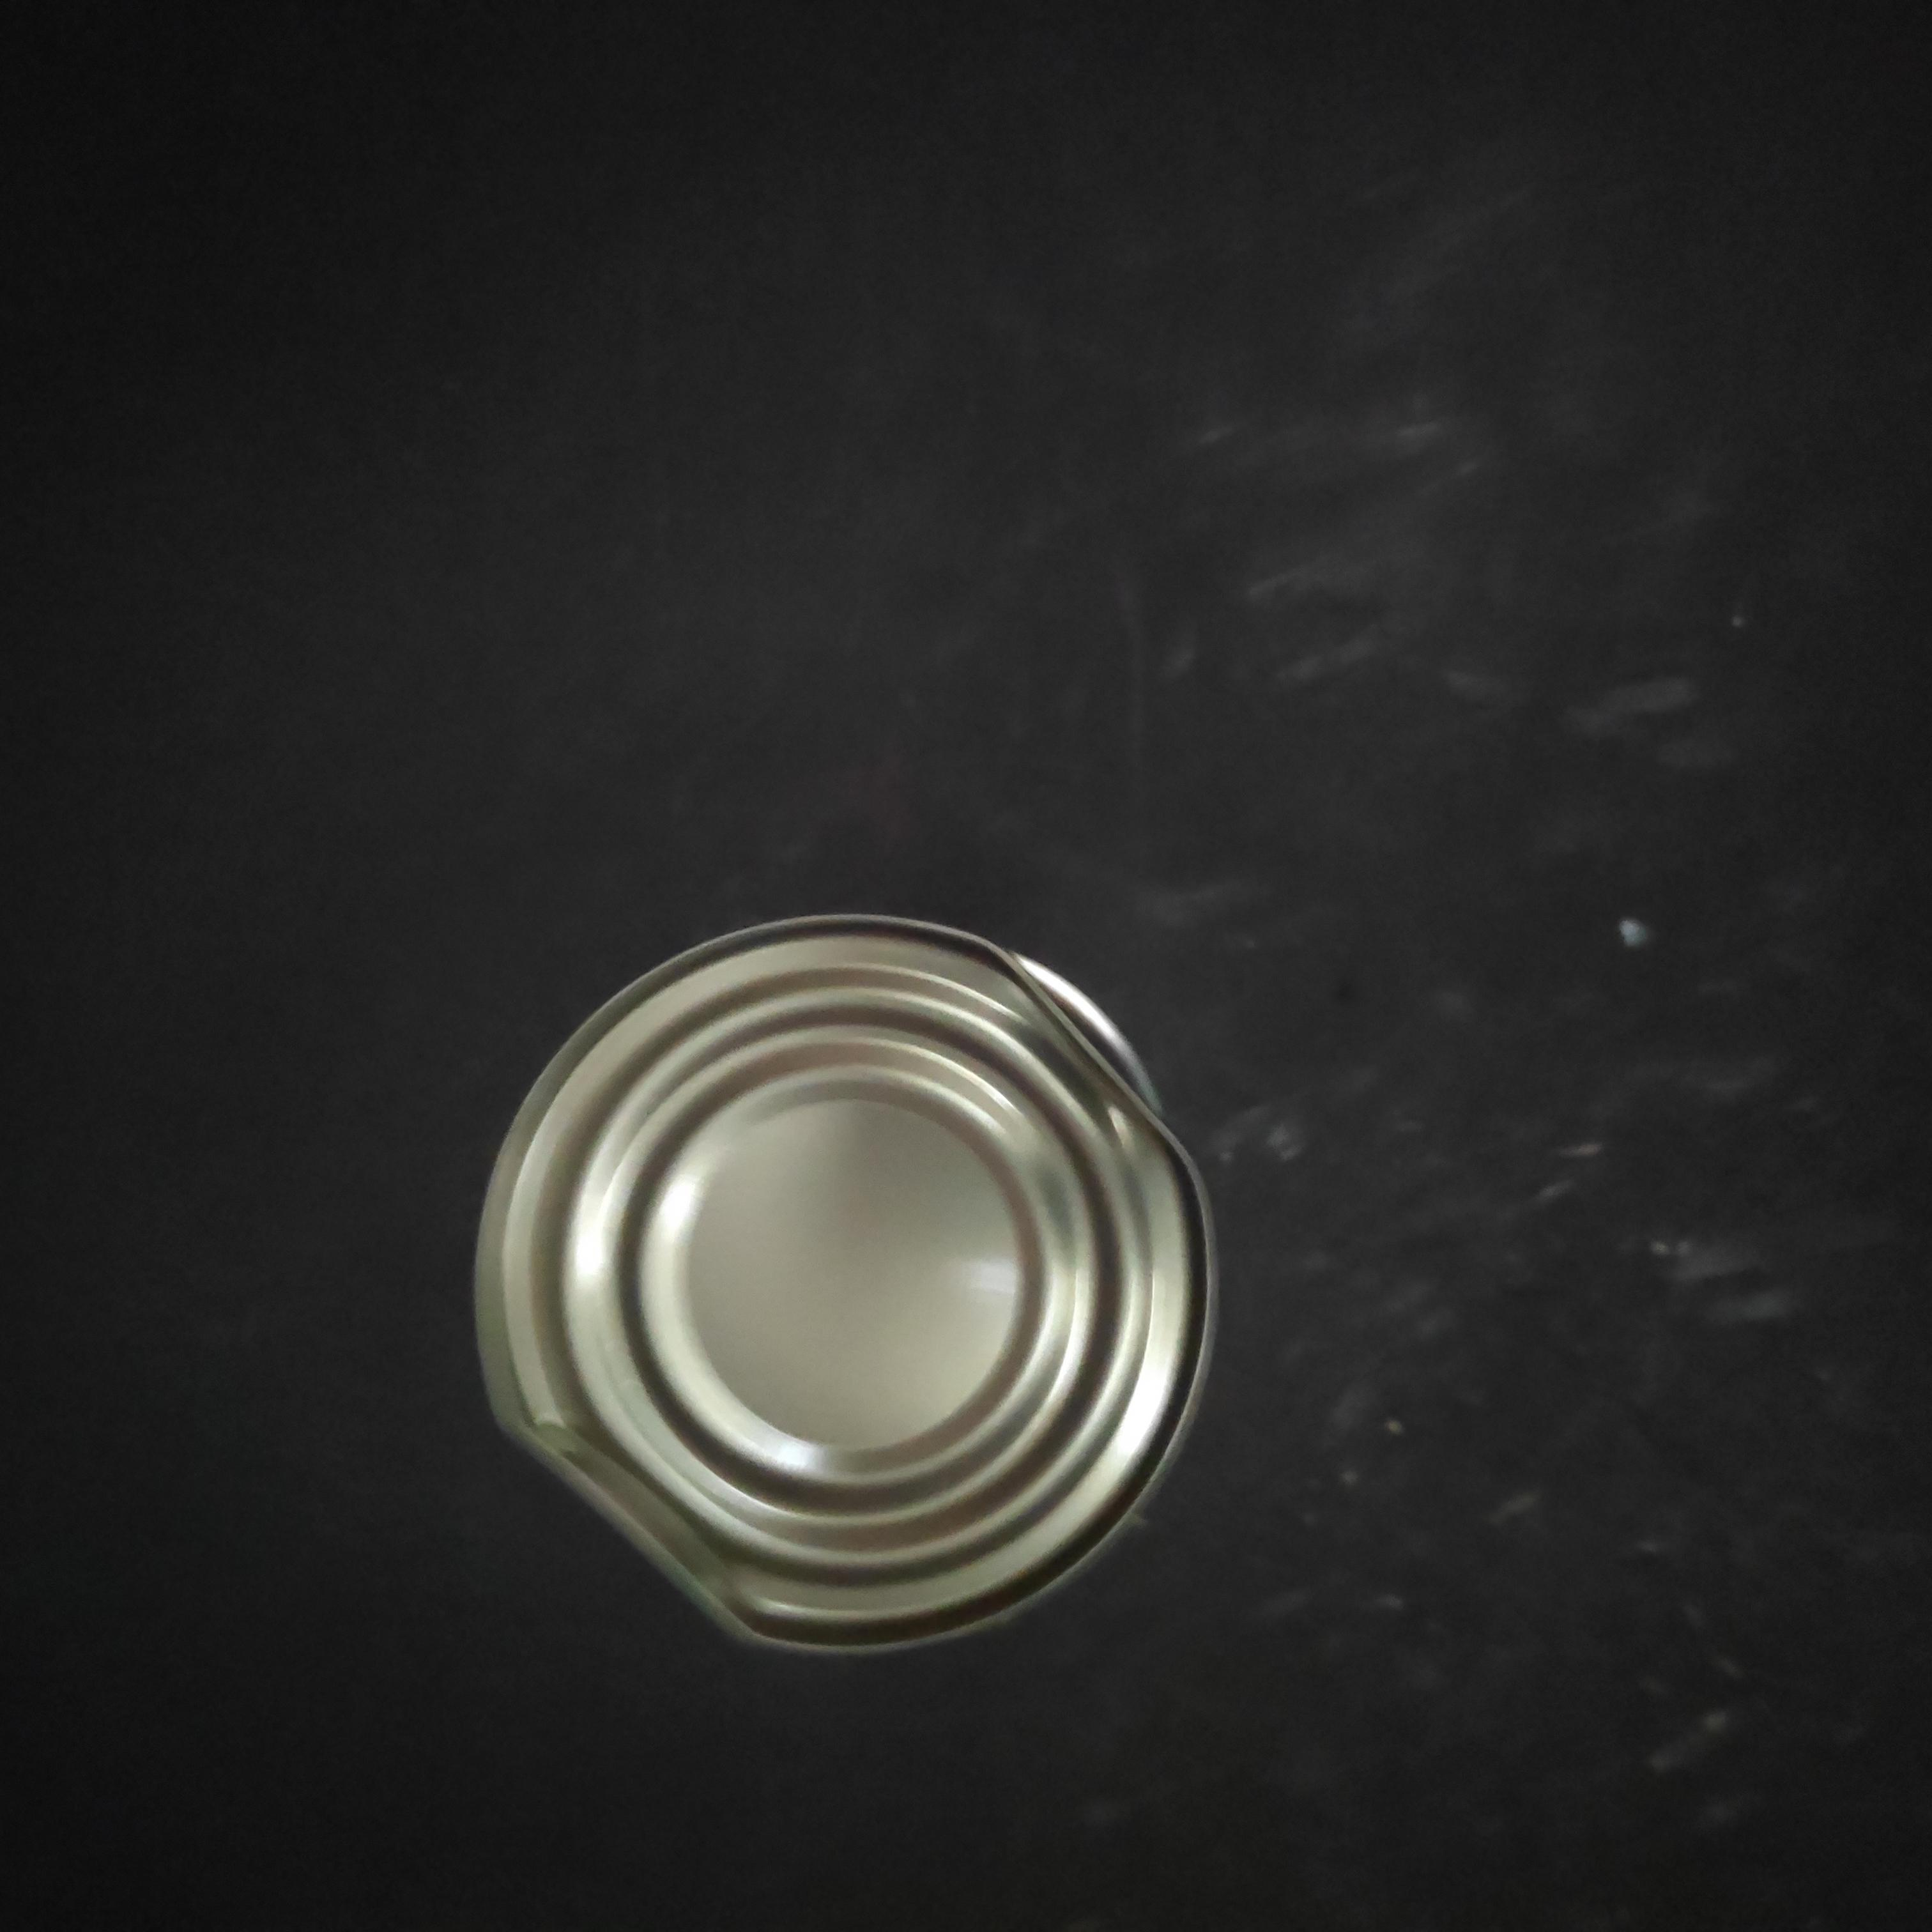Minor Defect: (704, 257, 1484, 1039)
